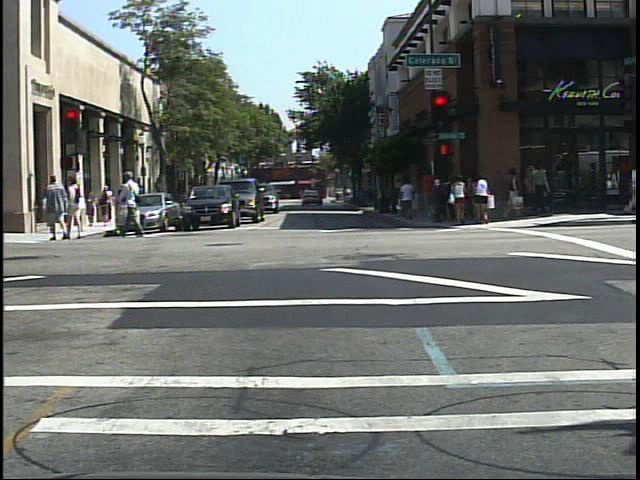person: (118, 167, 147, 241), (44, 170, 68, 245), (67, 173, 90, 244)
